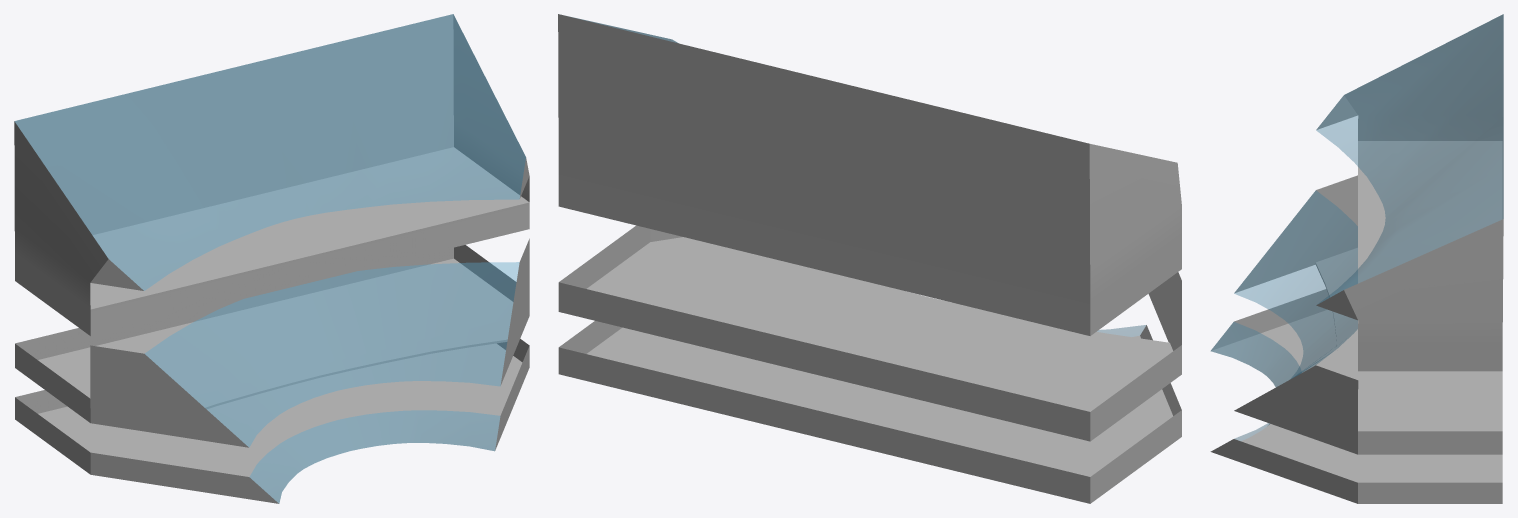
File: buildingv2.fbx
3 views of the same model, side by side, from view 1: azimuth 30°, elevation 25°; view 2: azimuth 150°, elevation 25°; view 3: azimuth 270°, elevation 25° (orthographic). The views are drawn at different scales.
Parts seen in each view (by area): view 1: polySurface11, polySurface12, polySurface10; view 2: polySurface11, polySurface12, polySurface10; view 3: polySurface11, polySurface12, polySurface10.
Boxes of the visible parts, left/top/right/bottom form: polySurface11: left=14, top=14, right=529, bottom=336; polySurface12: left=15, top=238, right=529, bottom=447; polySurface10: left=15, top=339, right=529, bottom=503; polySurface11: left=558, top=14, right=1181, bottom=335; polySurface12: left=558, top=225, right=1181, bottom=441; polySurface10: left=558, top=321, right=1181, bottom=503; polySurface11: left=1316, top=14, right=1503, bottom=371; polySurface12: left=1234, top=175, right=1502, bottom=454; polySurface10: left=1210, top=289, right=1502, bottom=503.
Bounding box in the file's own units: 63 × 40.83 × 38.07.
